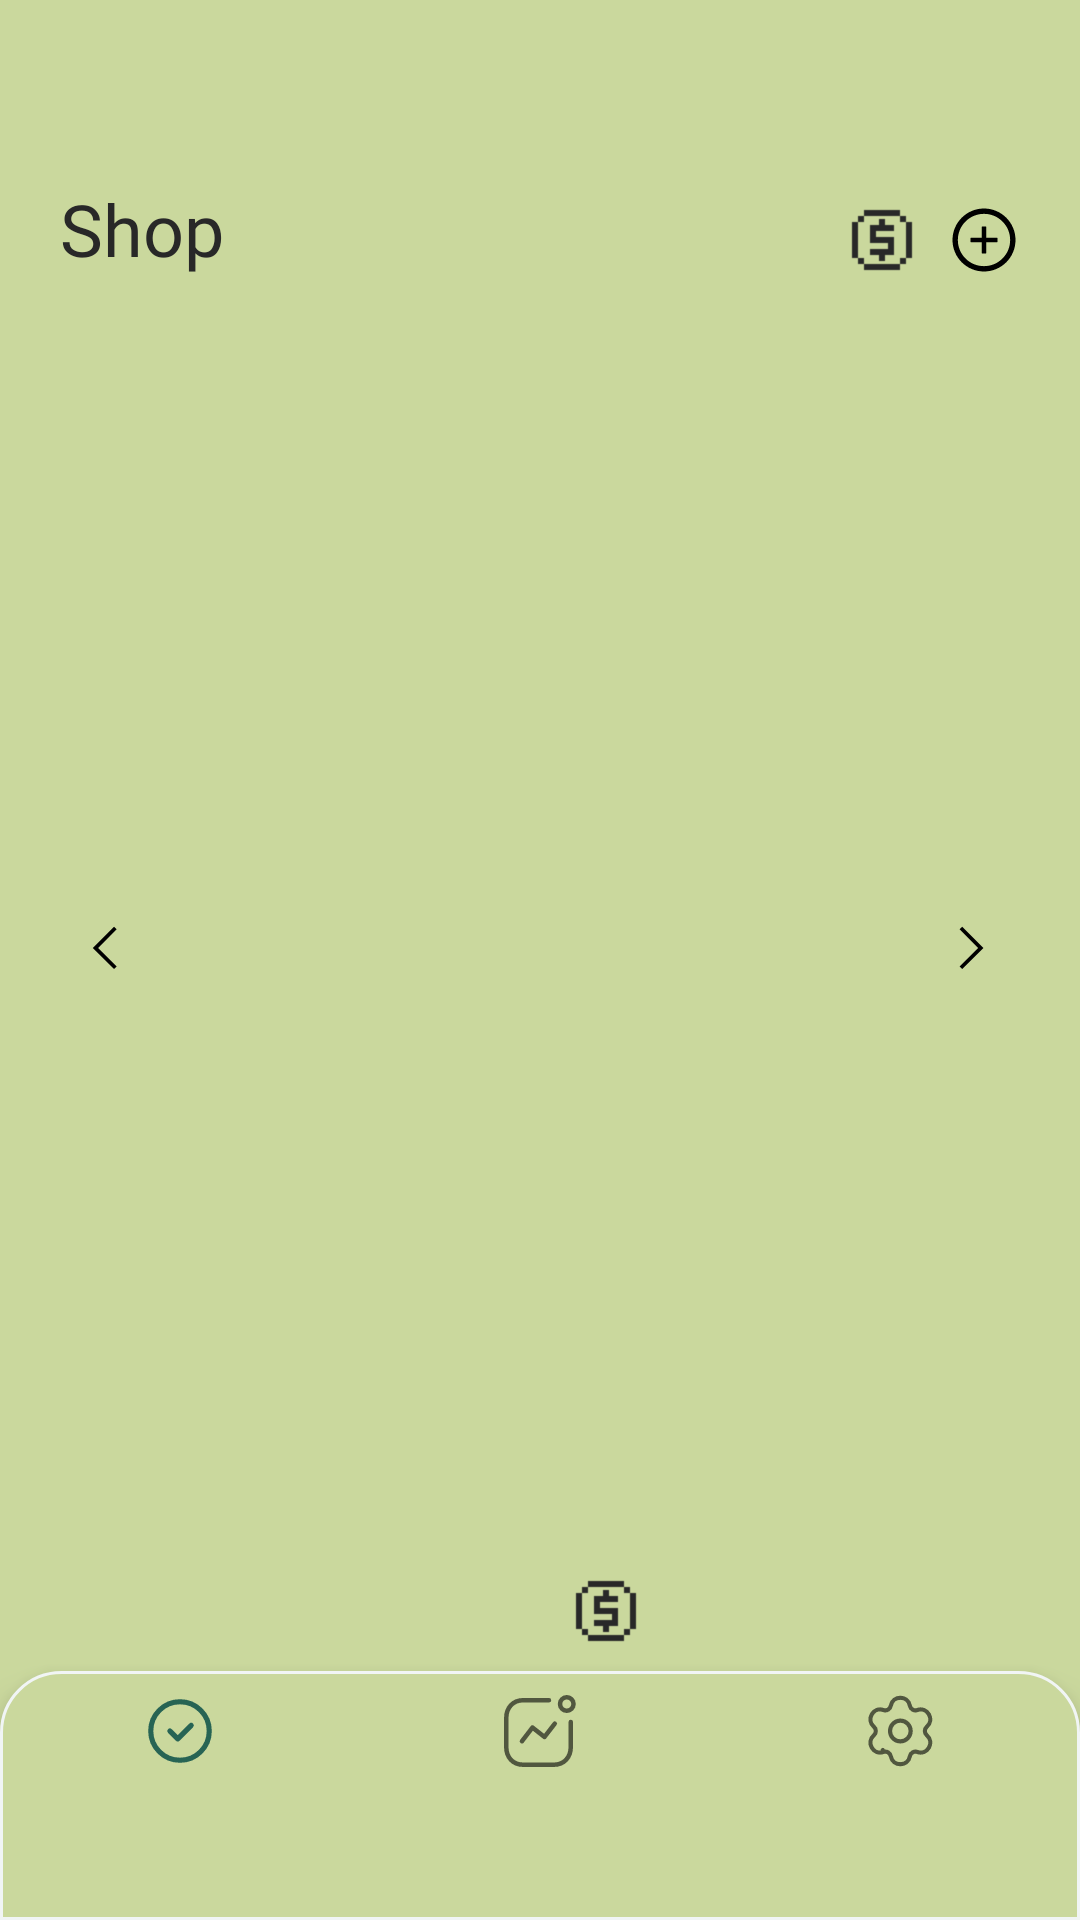

Where to tap for icons on this 1080x1920 app screen, as point (x, y):
coin: point (882, 240), point (606, 1611)
left: point (105, 948)
plus: point (984, 240)
right: point (971, 948)
